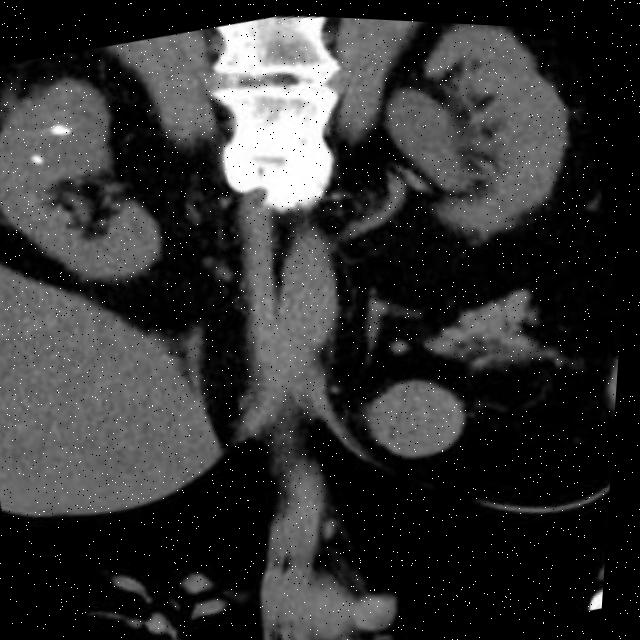Tas_Var: (44, 115, 79, 144), (28, 150, 50, 170)
